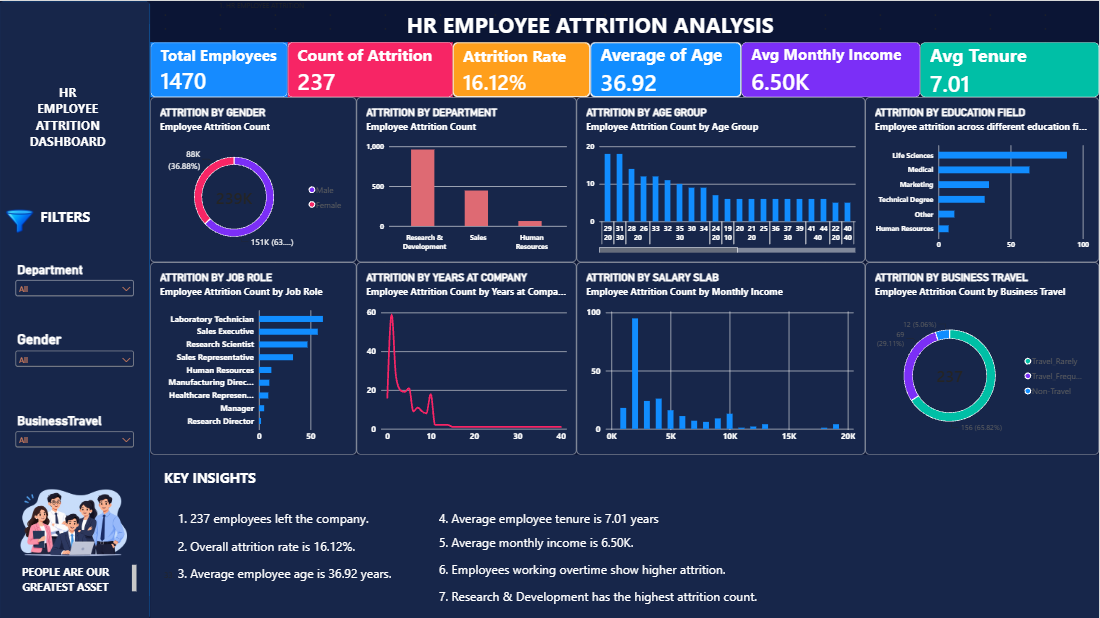

Layout of this report page (visuals, bound fields, positions):
{"tool":"powerbi","page":{"name":"HR Professional Dashboard","canvas":[1920,1080],"ordinal":0},"visuals":[{"type":"textbox","box":[10,0,280,280],"z":0},{"type":"textbox","box":[384,0,1296,288],"z":1000},{"type":"cardVisual","fields":{"Data":["CountNonNull(WA_Fn-UseC_-HR-Employee-Attriti.EmployeeNumber)"]},"box":[264,72,240,96],"z":2000},{"type":"cardVisual","fields":{"Data":["CountNonNull(WA_Fn-UseC_-HR-Employee-Attriti.Attrition)"]},"box":[504,72,288,96],"z":3000},{"type":"cardVisual","fields":{"Data":["HR.Attrition Rate"]},"box":[792,72,240,96],"z":4000},{"type":"cardVisual","fields":{"Data":["Avg(HR.Age)"]},"box":[1032,72,264,96],"z":5000},{"type":"cardVisual","fields":{"Data":["Avg(HR.MonthlyIncome)"]},"box":[1296,72,312,96],"z":6000},{"type":"cardVisual","fields":{"Data":["Avg(HR.YearsAtCompany)"]},"box":[1608,72,312,96],"z":7000},{"type":"donutChart","title":"ATTRITION BY GENDER","fields":{"Category":["HR.Gender"],"Y":["Sum(HR.EmployeeNumber)"]},"box":[264,168,360,288],"z":8000},{"type":"clusteredColumnChart","title":"ATTRITION BY DEPARTMENT","fields":{"Category":["HR.Department"],"Y":["CountNonNull(HR.EmployeeNumber)"]},"box":[624,168,384,288],"z":9000},{"type":"clusteredColumnChart","title":"ATTRITION BY AGE GROUP","fields":{"Category":["HR.Age (bins)","HR.Age"],"Y":["CountNonNull(HR.EmployeeNumber)"]},"box":[1008,168,504,288],"z":10000},{"type":"clusteredBarChart","title":"ATTRITION BY EDUCATION FIELD","fields":{"Category":["HR.EducationField"],"Y":["CountNonNull(HR.EmployeeNumber)"]},"box":[1512,168,408,288],"z":11000},{"type":"clusteredBarChart","title":"ATTRITION BY JOB ROLE","fields":{"Category":["HR.JobRole"],"Y":["CountNonNull(HR.EmployeeNumber)"]},"box":[264,456,360,336],"z":12000},{"type":"lineChart","title":"ATTRITION BY YEARS AT COMPANY","fields":{"Category":["HR.YearsAtCompany"],"Y":["CountNonNull(HR.EmployeeNumber)"]},"box":[624,456,384,336],"z":13000},{"type":"clusteredColumnChart","title":"ATTRITION BY SALARY SLAB","fields":{"Category":["HR.MonthlyIncome (bins)"],"Y":["CountNonNull(HR.EmployeeNumber)"]},"box":[1008,456,504,336],"z":14000},{"type":"donutChart","title":"ATTRITION BY BUSINESS TRAVEL","fields":{"Category":["HR.BusinessTravel"],"Y":["CountNonNull(HR.EmployeeNumber)"]},"box":[1512,456,408,336],"z":15000},{"type":"shape","box":[0,0,264,1080],"z":16000},{"type":"image","box":[0,816,264,192],"z":17000},{"type":"slicer","fields":{"Values":["HR.Department"]},"box":[24,456,216,96],"z":18000},{"type":"slicer","fields":{"Values":["HR.Gender"]},"box":[24,576,216,96],"z":19000},{"type":"slicer","fields":{"Values":["HR.BusinessTravel"]},"box":[24,720,216,96],"z":20000},{"type":"textbox","box":[48,144,144,144],"z":21000},{"type":"shape","box":[264,792,1656,288],"z":21500},{"type":"textbox","box":[72,360,168,72],"z":22000},{"type":"image","box":[0,360,72,48],"z":23000},{"type":"textbox","box":[0,984,240,48],"z":24000},{"type":"textbox","box":[288,816,336,96],"z":26000},{"type":"textbox","box":[312,888,336,48],"z":27000},{"type":"textbox","box":[312,936,312,72],"z":27001},{"type":"textbox","box":[288,984,408,48],"z":27002},{"type":"textbox","box":[768,888,408,48],"z":27003},{"type":"textbox","box":[768,912,592,160],"z":27004}]}

Visuals, with their boxes in screenshot pixels (x1, y1, x2, y2), scaled from the page's 1920x1080 canvas onto the 1100x618 screenshot:
textbox: (6,0,166,160)
textbox: (220,0,962,165)
cardVisual - CountNonNull(WA_Fn-UseC_-HR-Employee-Attriti.EmployeeNumber): (151,41,289,96)
cardVisual - CountNonNull(WA_Fn-UseC_-HR-Employee-Attriti.Attrition): (289,41,454,96)
cardVisual - HR.Attrition Rate: (454,41,591,96)
cardVisual - Avg(HR.Age): (591,41,742,96)
cardVisual - Avg(HR.MonthlyIncome): (742,41,921,96)
cardVisual - Avg(HR.YearsAtCompany): (921,41,1099,96)
"ATTRITION BY GENDER" donutChart: (151,96,358,261)
"ATTRITION BY DEPARTMENT" clusteredColumnChart: (358,96,578,261)
"ATTRITION BY AGE GROUP" clusteredColumnChart: (578,96,866,261)
"ATTRITION BY EDUCATION FIELD" clusteredBarChart: (866,96,1099,261)
"ATTRITION BY JOB ROLE" clusteredBarChart: (151,261,358,453)
"ATTRITION BY YEARS AT COMPANY" lineChart: (358,261,578,453)
"ATTRITION BY SALARY SLAB" clusteredColumnChart: (578,261,866,453)
"ATTRITION BY BUSINESS TRAVEL" donutChart: (866,261,1099,453)
shape: (0,0,151,617)
image: (0,467,151,577)
slicer - HR.Department: (14,261,138,316)
slicer - HR.Gender: (14,330,138,385)
slicer - HR.BusinessTravel: (14,412,138,467)
textbox: (28,82,110,165)
shape: (151,453,1099,617)
textbox: (41,206,138,247)
image: (0,206,41,233)
textbox: (0,563,138,591)
textbox: (165,467,358,522)
textbox: (179,508,371,536)
textbox: (179,536,358,577)
textbox: (165,563,399,591)
textbox: (440,508,674,536)
textbox: (440,522,779,613)
